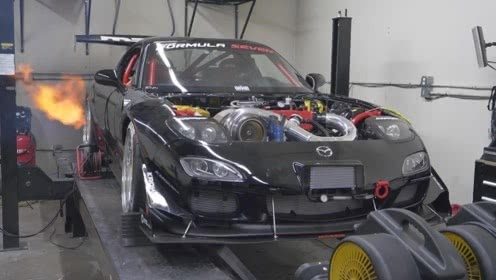fire: (16, 65, 88, 126)
